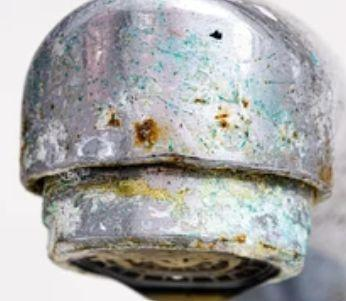metal: (12, 0, 339, 297)
